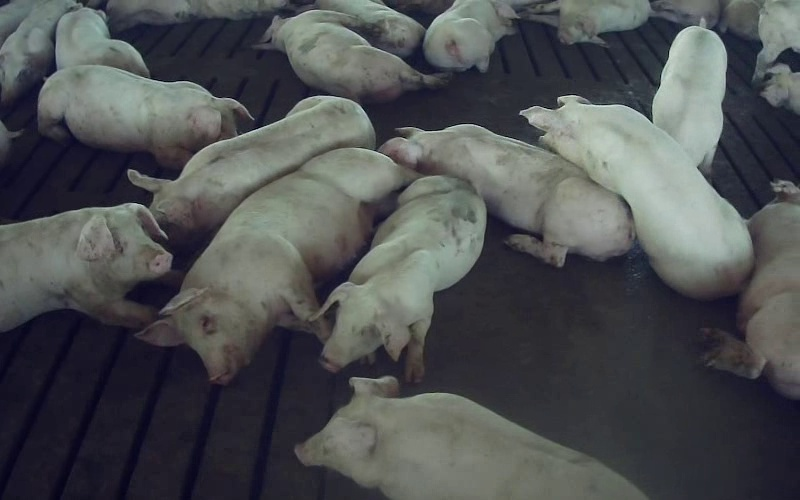pig: (137, 148, 418, 383), (520, 95, 752, 299), (295, 376, 645, 499), (380, 124, 633, 266), (318, 176, 485, 380), (0, 203, 171, 331), (704, 181, 799, 399), (255, 10, 447, 102), (652, 18, 726, 173), (297, 0, 424, 57), (423, 0, 516, 72), (55, 7, 149, 77), (519, 0, 650, 45)
